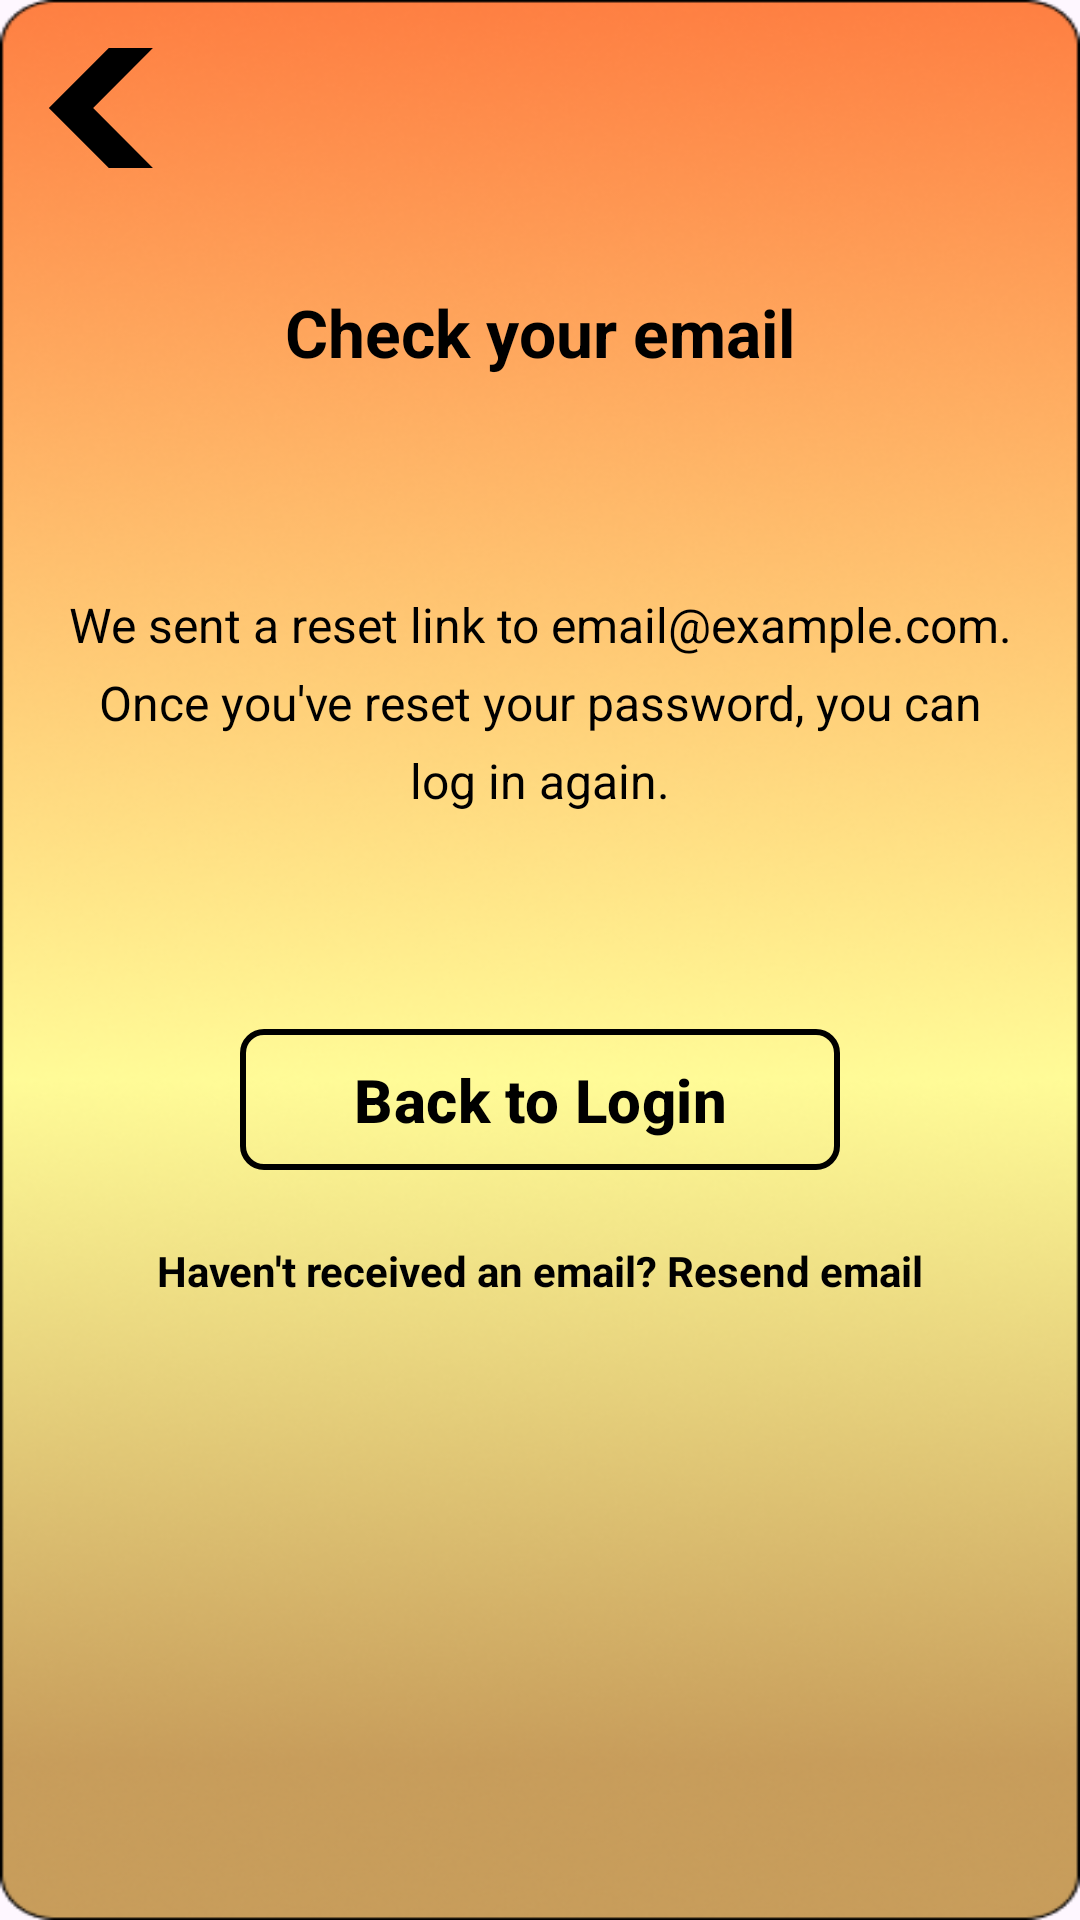

Icon click points for this 1080×1920 phone screenshot, format (x=x, y=y):
arrow back: (x=101, y=108)
